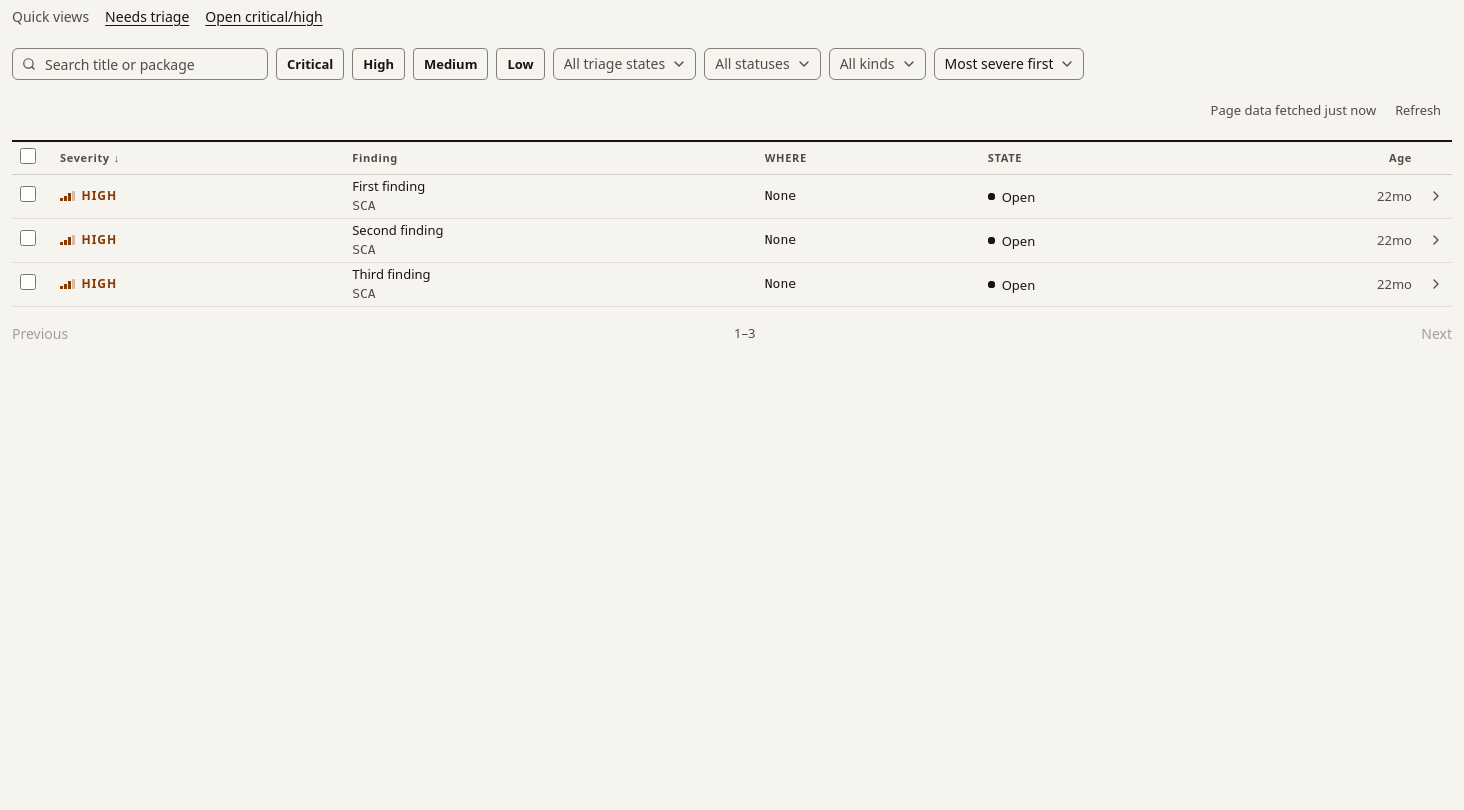
Test case: the findings list's selection and bulk actions › selects the whole page from the header and clears it from the bar
The width and height of the screenshot is (1464, 810).
Step 1. Click the checkbox named "Select all findings on this page" → (28, 156), box [20, 148, 36, 164]
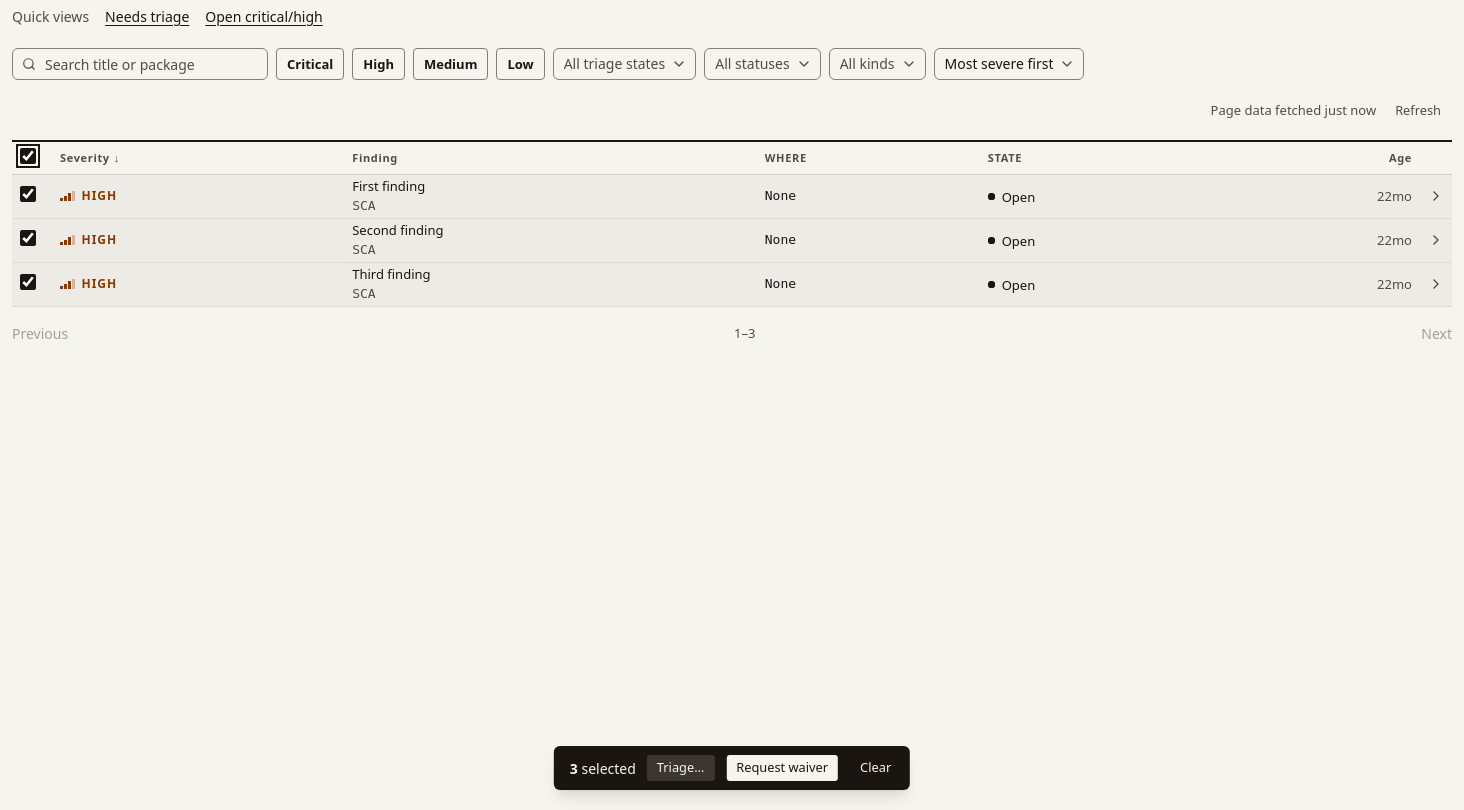
Expected: the element named "Bulk actions" shows "3 selected", [554, 746, 910, 790]
Step 2. Click the button "Clear" → (876, 768), box [849, 754, 902, 782]
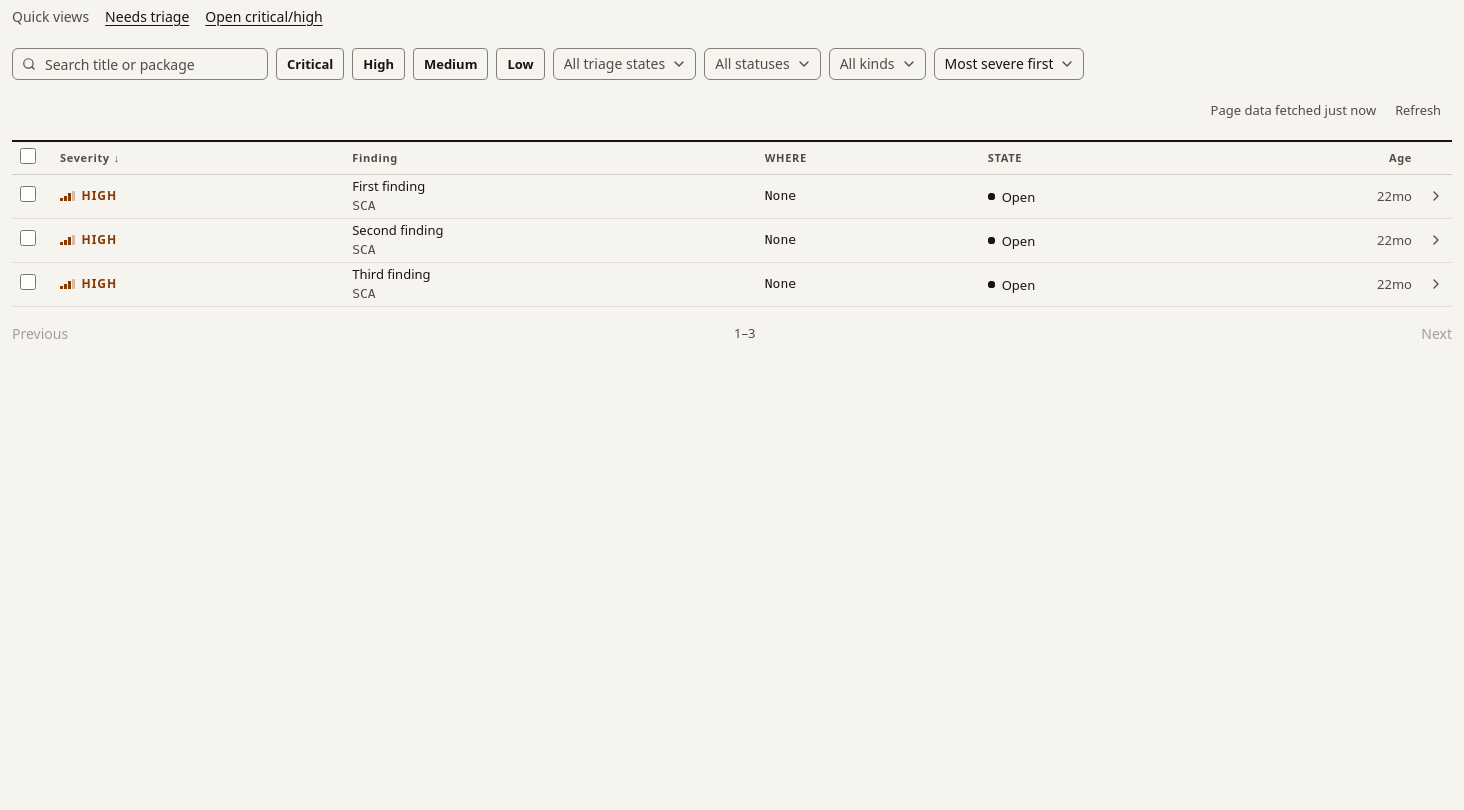
Expected: the checkbox named "Select First finding" is not checked, [20, 186, 36, 202]
